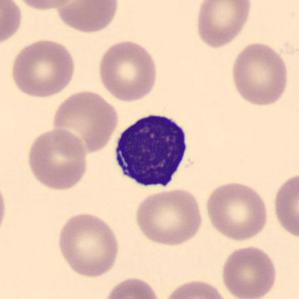Lymphocyte: (108, 106, 196, 194)
RBC: (50, 88, 120, 156), (55, 210, 121, 279), (133, 187, 205, 247), (228, 40, 291, 108), (8, 37, 77, 99), (25, 127, 89, 192), (96, 38, 160, 103), (203, 180, 270, 241), (219, 244, 279, 299), (194, 0, 254, 50), (53, 0, 121, 35), (271, 170, 298, 240), (162, 277, 230, 299), (101, 275, 163, 299), (0, 0, 24, 48), (11, 0, 83, 12), (0, 174, 9, 241)
